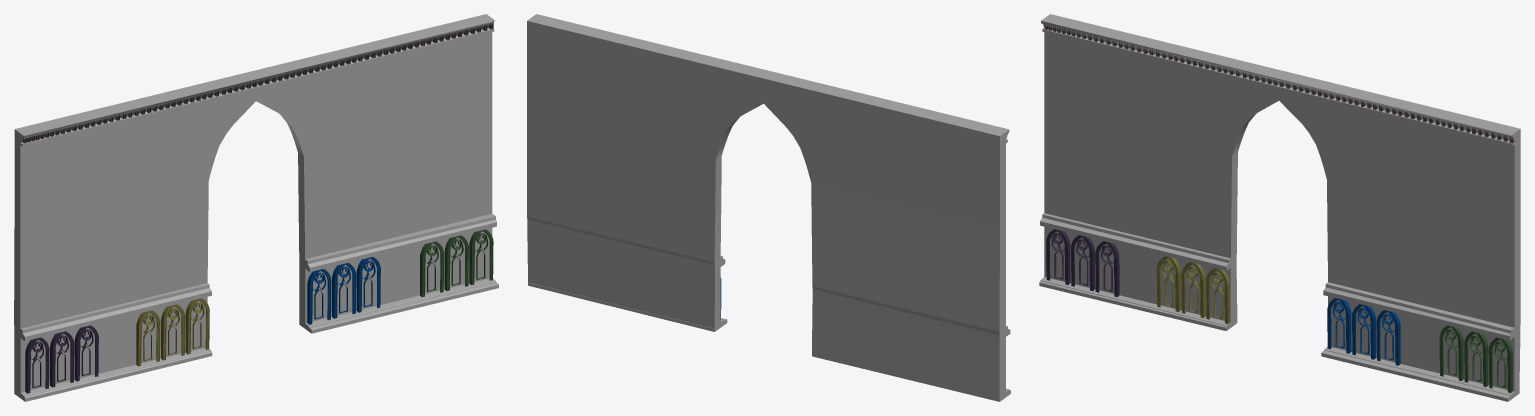
The model's file is wall_long_group_low.fbx.
The picture shows the model from 3 angles, left to right: view 1: azimuth 30°, elevation 25°; view 2: azimuth 150°, elevation 25°; view 3: azimuth 330°, elevation 25°; orthographic projection.
Visible parts, largest first — view 1: wall_long_group_low; view 2: wall_long_group_low; view 3: wall_long_group_low.
Part boxes in pixels (<box>): wall_long_group_low: <box>14,14,498,401</box>; wall_long_group_low: <box>527,14,1010,401</box>; wall_long_group_low: <box>1039,14,1520,401</box>.
Bounding box in the file's own units: 11.46 × 6.15 × 0.5497.
